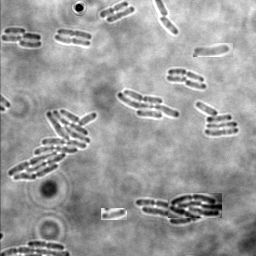Dividing: (167, 67, 204, 81), (99, 1, 128, 18), (54, 34, 90, 47), (56, 28, 92, 39), (27, 239, 64, 249)
Microcolony: (7, 109, 98, 180), (117, 88, 180, 119), (195, 101, 238, 136), (168, 193, 222, 218), (1, 27, 42, 48), (193, 43, 233, 57)
Rod: (106, 5, 135, 23), (157, 16, 178, 34), (101, 208, 127, 220), (184, 79, 206, 89), (166, 73, 187, 82)
